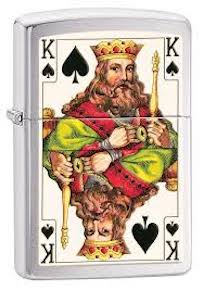KingOfSpades: (9, 3, 197, 281)
